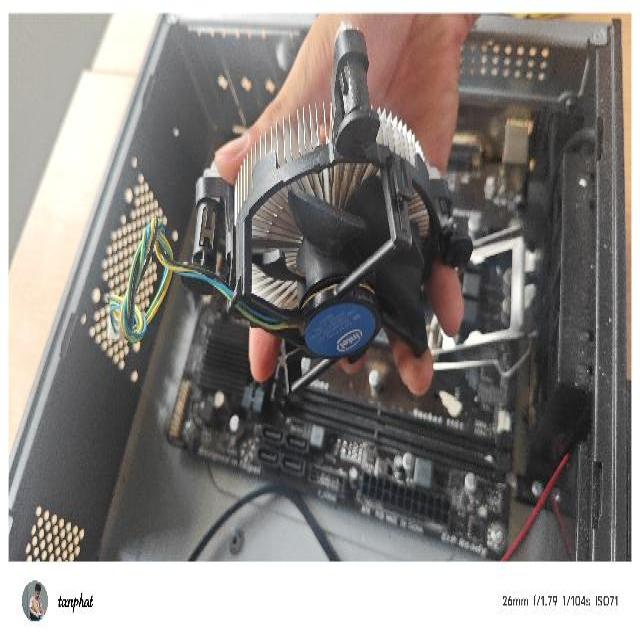CPU_Fan: (177, 16, 474, 403)
